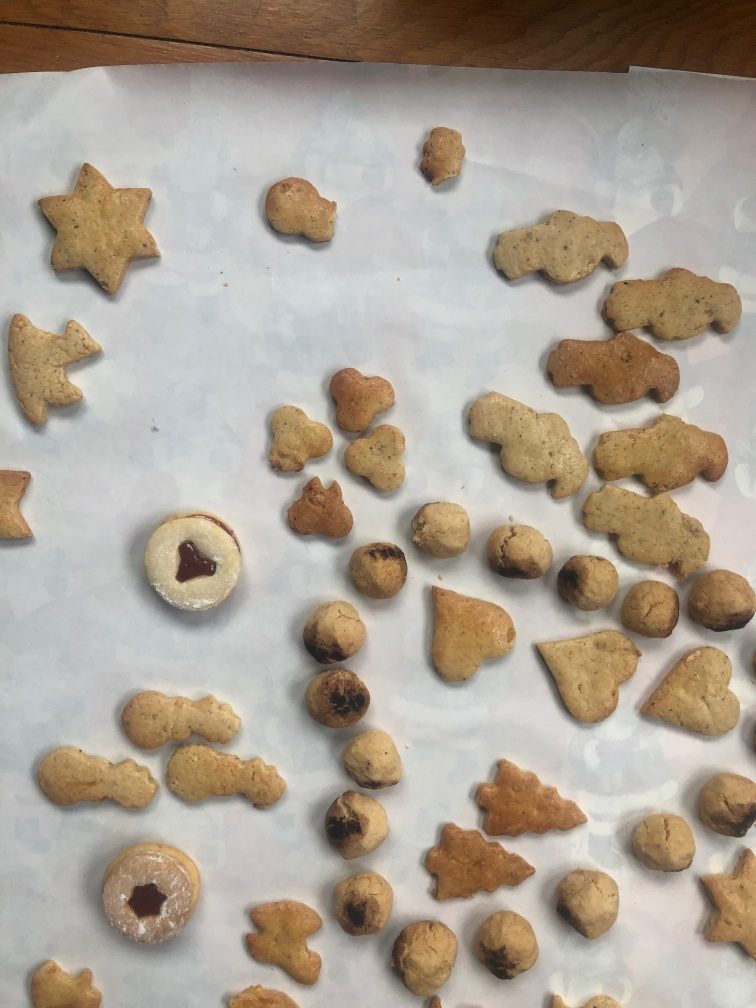christmas shortbread with jam: (94, 834, 211, 952), (143, 509, 210, 633)
christmas tree: (467, 754, 594, 850), (419, 818, 541, 906)
flake: (280, 475, 358, 550), (325, 366, 398, 443), (264, 401, 334, 479), (342, 421, 410, 496)
heart: (634, 638, 744, 747), (532, 626, 644, 733), (421, 574, 518, 685)
lamb: (4, 308, 107, 434), (240, 896, 326, 992)
santa claus: (456, 388, 589, 503), (580, 483, 713, 584), (598, 261, 748, 348), (485, 207, 635, 292), (541, 333, 683, 416), (591, 415, 734, 496)
snowball: (390, 918, 461, 999), (471, 905, 537, 990), (553, 866, 625, 939), (319, 788, 391, 861), (300, 596, 376, 664), (298, 664, 374, 731), (626, 807, 696, 879), (482, 518, 558, 584), (692, 767, 755, 840), (407, 496, 473, 565), (620, 574, 683, 646), (328, 866, 393, 935), (348, 541, 410, 612), (342, 723, 405, 790), (687, 568, 755, 630), (555, 554, 620, 615)
snowman: (163, 737, 299, 818), (27, 741, 164, 821), (117, 684, 247, 751)
star: (33, 158, 168, 301), (694, 844, 756, 960)
